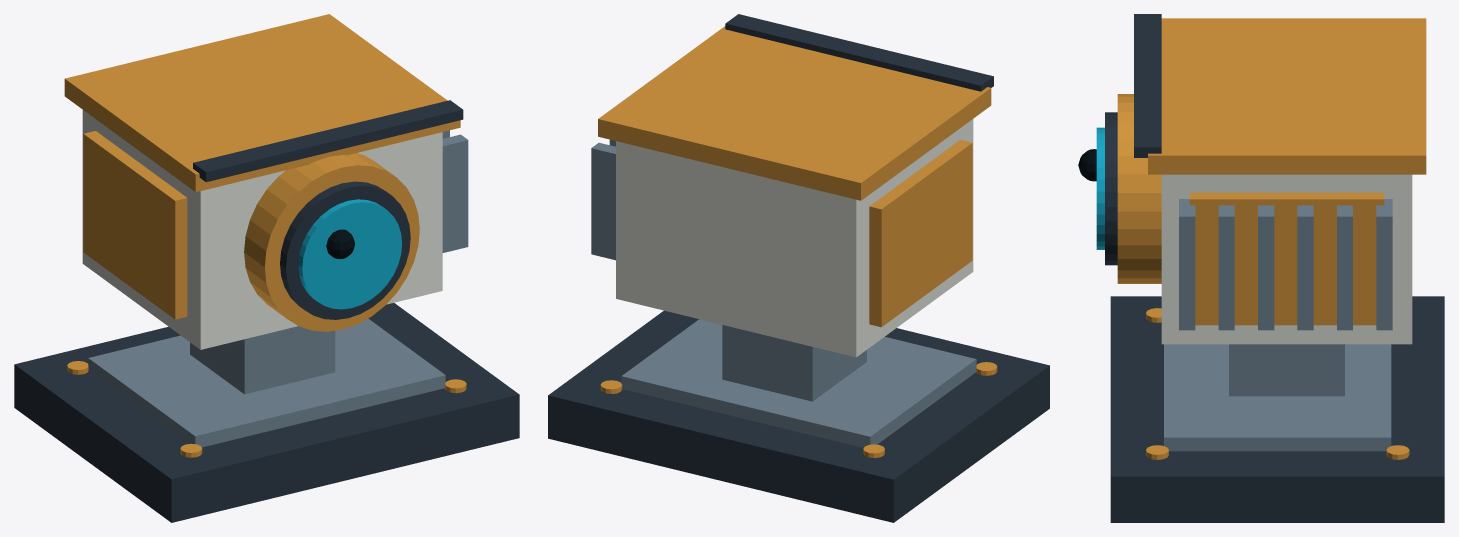
File: 01_Camara_Termica_Infrarroja.obj
3 renders of one model, left to right at view 1: azimuth 30°, elevation 25°; view 2: azimuth 150°, elevation 25°; view 3: azimuth 270°, elevation 25°, orthographic. The views are drawn at different scales.
Visible parts, largest first — view 1: Camara_Termica_Infrarroja; view 2: Camara_Termica_Infrarroja; view 3: Camara_Termica_Infrarroja.
Part boxes in pixels (x1,y1,x2,y2): Camara_Termica_Infrarroja: [14, 14, 519, 522]; Camara_Termica_Infrarroja: [548, 14, 1049, 522]; Camara_Termica_Infrarroja: [1078, 14, 1444, 522].
Bounding box in the file's own units: 0.92 × 0.8375 × 0.79.
